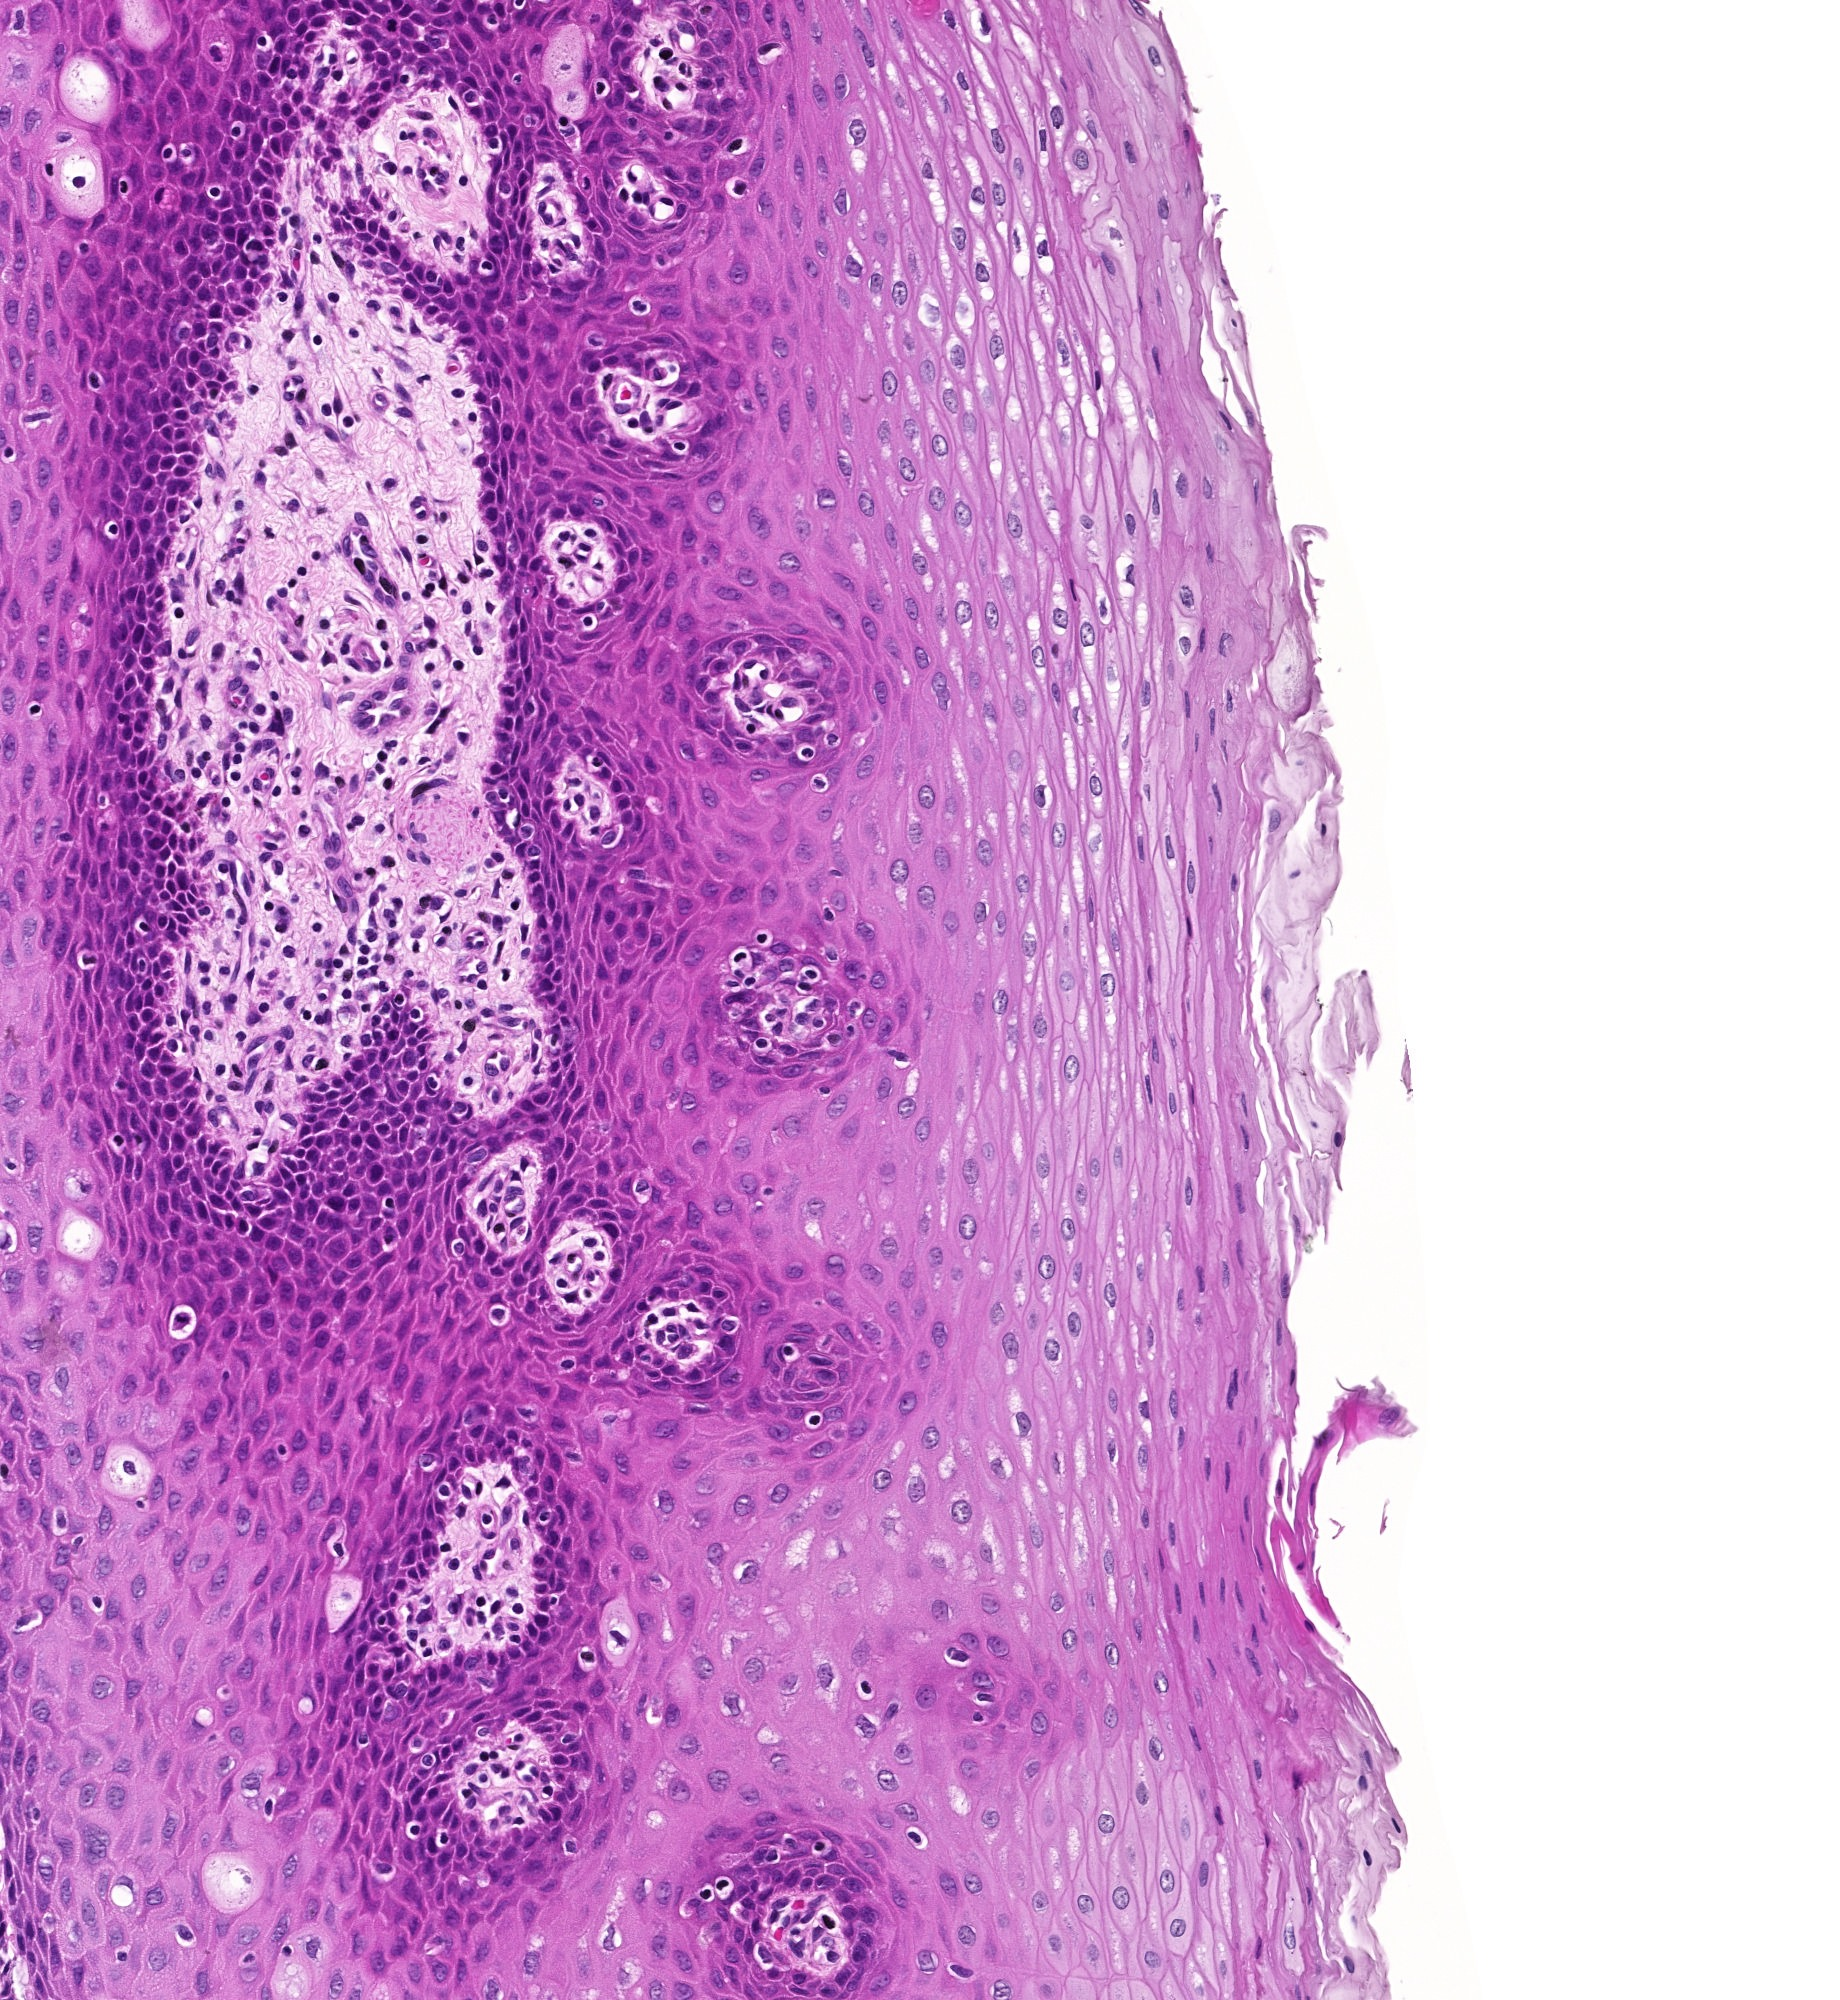epithelial: (265, 1315, 274, 1322), (174, 1139, 181, 1146), (56, 1580, 61, 1587), (105, 233, 112, 239), (756, 521, 763, 526), (788, 1876, 796, 1880), (465, 40, 470, 45), (127, 1380, 131, 1387), (63, 260, 66, 267), (821, 96, 824, 103), (880, 1977, 883, 1983), (441, 1969, 444, 1974), (169, 1824, 172, 1829), (1169, 1530, 1173, 1535), (1230, 1390, 1234, 1395), (178, 1348, 181, 1354), (159, 1089, 164, 1092), (214, 1199, 218, 1204), (80, 1012, 84, 1017), (383, 1052, 387, 1057), (639, 930, 645, 934), (847, 584, 850, 589), (488, 476, 491, 481), (709, 125, 713, 131), (131, 1686, 132, 1693), (1239, 1592, 1241, 1599), (1051, 1350, 1052, 1357), (702, 1286, 706, 1289), (566, 1392, 568, 1399), (162, 1200, 164, 1207), (805, 852, 808, 855), (911, 605, 913, 611), (153, 843, 157, 847), (17, 667, 21, 671), (166, 462, 169, 465), (430, 287, 434, 291), (889, 383, 892, 387), (1181, 483, 1183, 490), (880, 688, 883, 692), (1202, 1871, 1204, 1876), (849, 1882, 854, 1883), (1253, 1659, 1255, 1664), (416, 1382, 418, 1387), (287, 1289, 289, 1294), (404, 1225, 406, 1230), (303, 1131, 308, 1132), (157, 969, 159, 974), (92, 876, 94, 882), (1190, 876, 1192, 882), (1336, 1138, 1338, 1143), (664, 613, 666, 618), (125, 732, 127, 737), (279, 44, 281, 49), (57, 51, 59, 56), (791, 105, 793, 110), (1106, 261, 1108, 267), (1396, 1824, 1397, 1828), (556, 1808, 558, 1812), (138, 1585, 139, 1589), (1174, 1402, 1176, 1406), (559, 1328, 563, 1329), (436, 1448, 437, 1451), (429, 1510, 430, 1514), (256, 1232, 258, 1235), (458, 1211, 460, 1214), (176, 904, 178, 908), (533, 876, 537, 878), (519, 848, 521, 852), (127, 657, 129, 660), (230, 233, 232, 237), (202, 293, 206, 294), (521, 319, 523, 322), (727, 103, 728, 106), (495, 85, 497, 89), (962, 82, 964, 85), (1206, 488, 1209, 490), (1218, 793, 1220, 796), (946, 1882, 948, 1883), (718, 1780, 720, 1782), (519, 1711, 521, 1713), (347, 1099, 348, 1101), (420, 1031, 422, 1033), (608, 915, 610, 916), (359, 221, 361, 223)
fibroblast and endothelial: (207, 598, 211, 601), (578, 798, 582, 801), (465, 1491, 469, 1495), (584, 544, 585, 549), (289, 439, 291, 444), (336, 402, 338, 408), (429, 620, 430, 625), (777, 1026, 779, 1031), (287, 1118, 293, 1120), (249, 974, 251, 979), (453, 101, 455, 105), (446, 235, 448, 239), (559, 242, 561, 246), (667, 200, 669, 204), (606, 380, 608, 383), (477, 557, 479, 561), (359, 564, 361, 568), (350, 599, 354, 601), (402, 411, 404, 415), (490, 608, 491, 611), (300, 657, 301, 660), (364, 721, 368, 723), (594, 812, 596, 815), (735, 681, 737, 685), (535, 1049, 537, 1052), (249, 1082, 251, 1085), (186, 962, 188, 965), (183, 1016, 185, 1019), (514, 1176, 516, 1179), (570, 1298, 573, 1300), (699, 1322, 700, 1326), (469, 1768, 470, 1772), (469, 1801, 472, 1803), (552, 268, 554, 270), (681, 87, 683, 89), (362, 706, 364, 707), (396, 704, 397, 706), (422, 787, 423, 789), (692, 1307, 693, 1308), (514, 1747, 516, 1749), (815, 1901, 817, 1902)
inflammatory: (371, 301, 376, 307), (603, 836, 610, 840), (387, 861, 390, 866), (498, 855, 502, 861), (336, 73, 340, 77), (261, 1005, 265, 1009), (497, 1314, 500, 1317), (389, 166, 394, 167), (664, 52, 666, 57), (561, 535, 566, 537), (389, 956, 390, 962), (683, 1350, 685, 1355), (422, 1611, 423, 1617), (828, 1920, 829, 1925), (317, 237, 319, 240), (331, 296, 333, 300), (807, 751, 810, 753), (343, 995, 347, 997), (598, 1256, 599, 1260), (124, 186, 125, 188), (286, 334, 287, 336), (779, 713, 781, 714), (505, 875, 507, 876), (279, 929, 281, 930), (286, 951, 287, 953), (589, 1240, 591, 1242), (516, 1606, 517, 1608)
lymphocyte: (559, 1280, 565, 1286), (735, 141, 739, 146), (289, 580, 294, 584), (457, 664, 460, 669), (282, 592, 287, 596), (465, 606, 469, 611), (803, 984, 808, 988), (483, 1753, 486, 1758), (404, 594, 408, 598), (477, 650, 481, 653), (193, 772, 197, 775), (239, 746, 242, 749), (275, 791, 279, 794), (362, 948, 366, 951), (479, 983, 483, 986), (739, 186, 741, 192), (261, 40, 263, 44), (402, 134, 404, 138), (632, 422, 634, 425), (326, 408, 328, 411), (430, 585, 432, 589), (490, 571, 491, 575), (112, 526, 113, 530), (33, 707, 37, 709), (178, 611, 179, 615), (383, 645, 385, 648), (380, 756, 382, 760), (230, 594, 232, 598), (233, 774, 235, 777), (336, 962, 340, 963), (514, 904, 516, 908), (369, 869, 371, 873), (171, 1042, 172, 1045), (760, 1042, 763, 1044), (96, 1601, 98, 1605), (336, 1547, 338, 1551), (484, 1517, 486, 1521), (444, 1547, 446, 1551), (443, 1836, 444, 1840), (704, 1894, 707, 1895), (77, 179, 78, 181), (235, 131, 237, 132), (214, 192, 216, 193), (565, 120, 566, 122), (680, 446, 681, 448), (253, 389, 254, 390), (420, 538, 422, 540), (380, 624, 382, 625), (429, 666, 430, 667), (378, 768, 380, 770), (747, 981, 749, 983), (225, 801, 227, 803), (305, 828, 307, 829), (362, 962, 364, 963), (397, 997, 399, 998), (204, 981, 206, 983), (814, 1420, 815, 1422), (817, 1847, 819, 1848)
